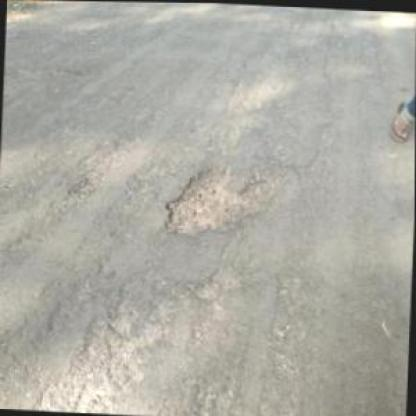pothole: (159, 161, 283, 243)
